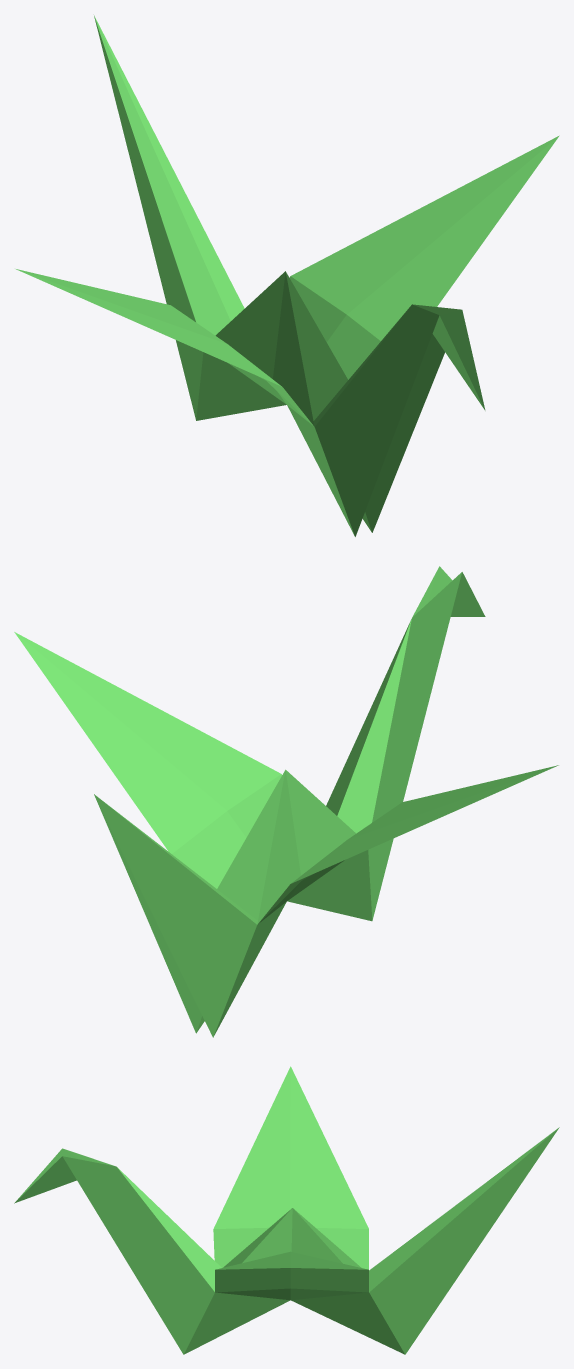
Rendered from crane.glb.
The picture shows the model from 3 angles, top to bottom: view 1: azimuth 30°, elevation 25°; view 2: azimuth 150°, elevation 25°; view 3: azimuth 270°, elevation 25°; orthographic projection. The views are drawn at different scales.
Visible parts, largest first — view 1: Crane; view 2: Crane; view 3: Crane.
Boxes of the visible parts, left/top/right/bottom form: Crane: left=16, top=15, right=559, bottom=536; Crane: left=14, top=566, right=558, bottom=1037; Crane: left=14, top=1066, right=559, bottom=1354.
Size of the model in its own units: 1.85 by 1.05 by 2.3.
